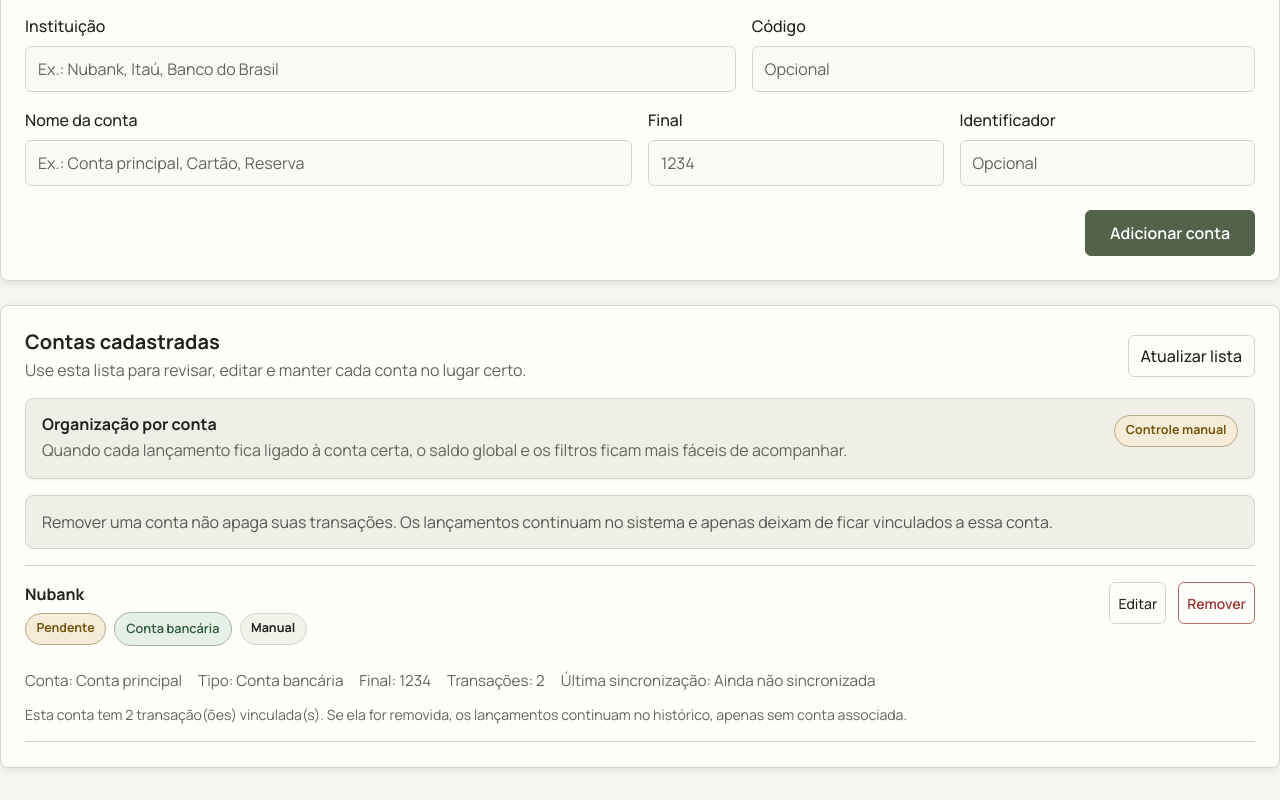
FinancialAccounts page › edits a registered financial account
The width and height of the screenshot is (1280, 800).
(page scrolled)
Expected: the text "Nubank" is shown, [25,583,84,605]
Click the button "Editar": (1138, 603) [1109,582,1166,624]
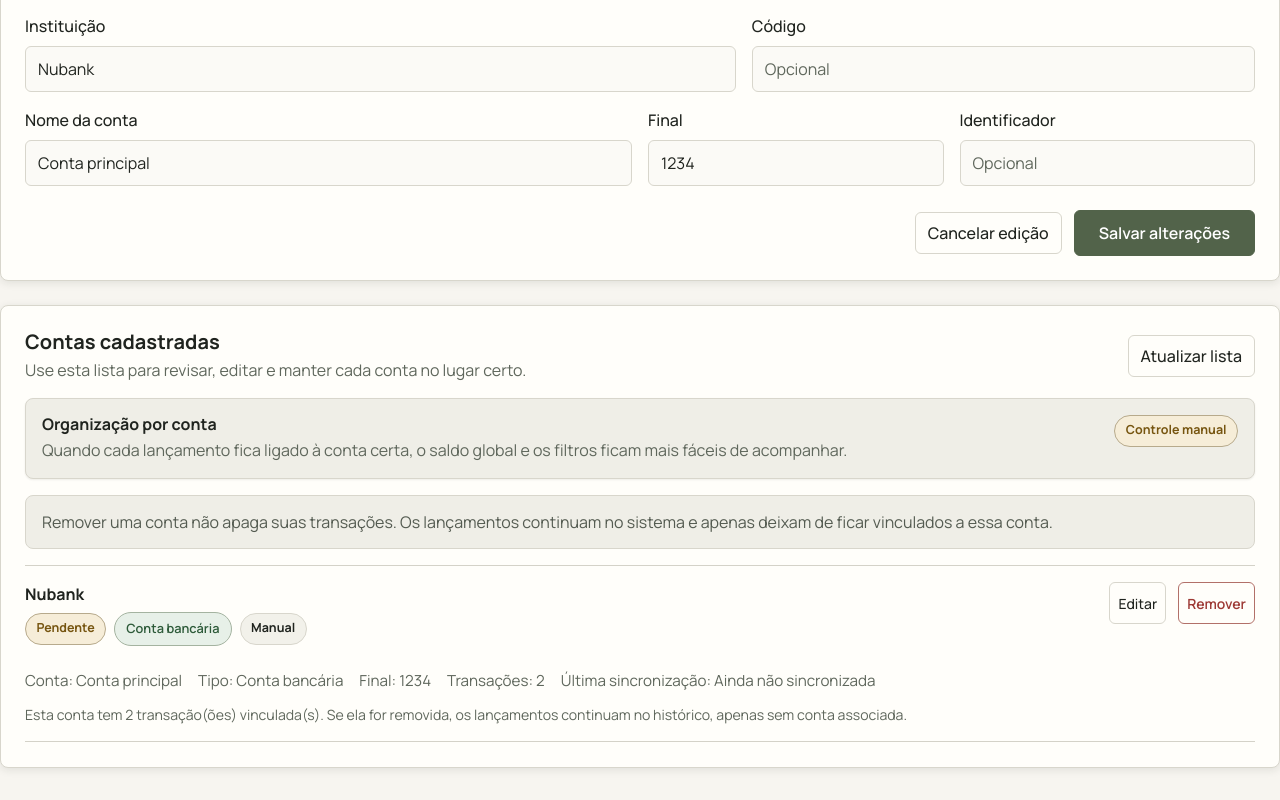
Replace the text in the field labelled "Nome da conta" with "Reserva imediata": (328, 163) [25,140,632,186]
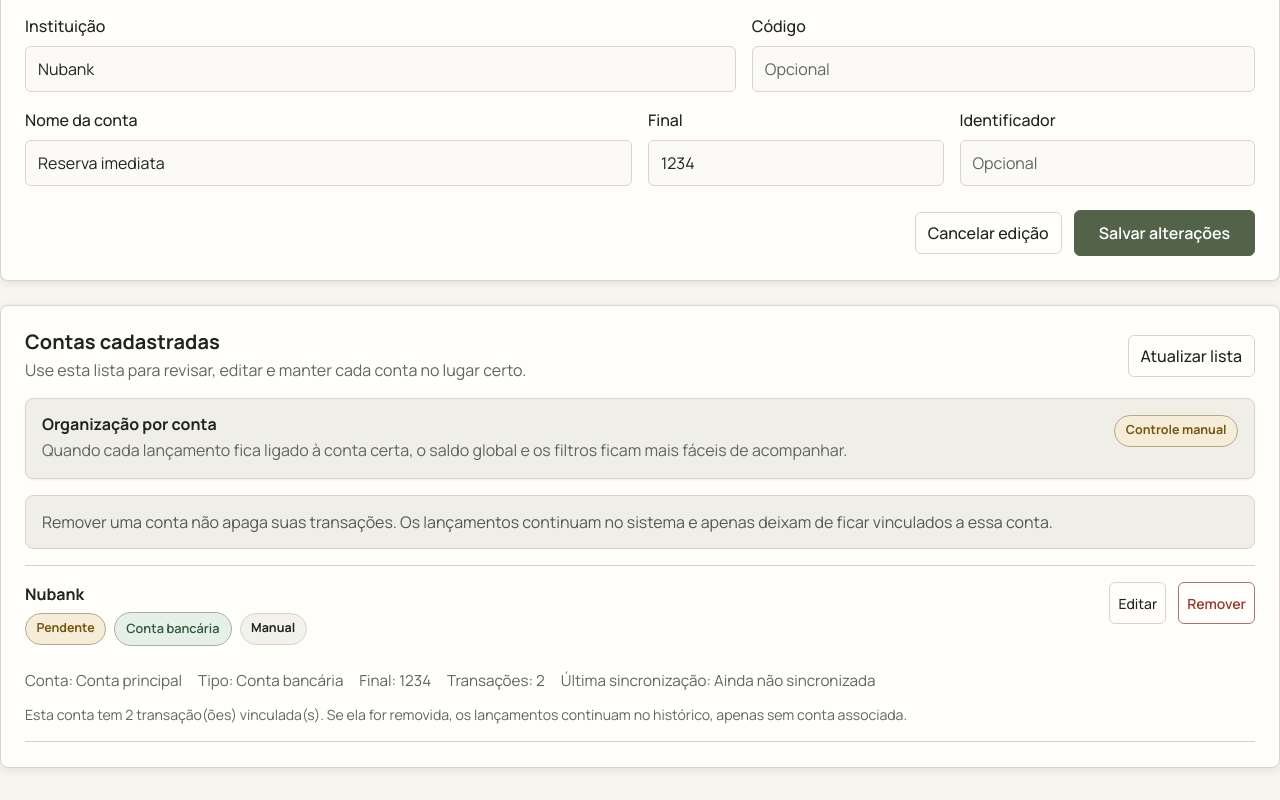
In the field labelled "Final": (796, 163) [648,140,944,186], type "7777"
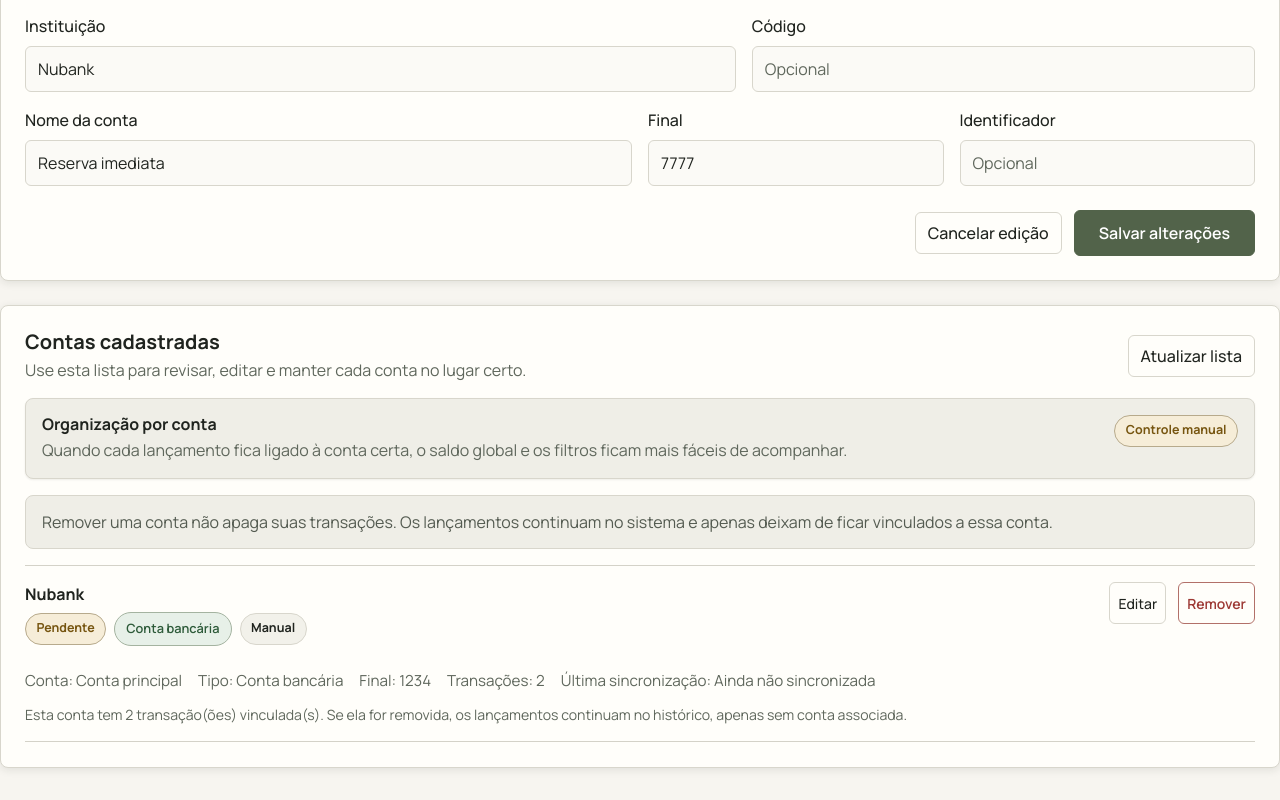
Click the button "Salvar alterações": (1164, 233) [1074,210,1255,256]
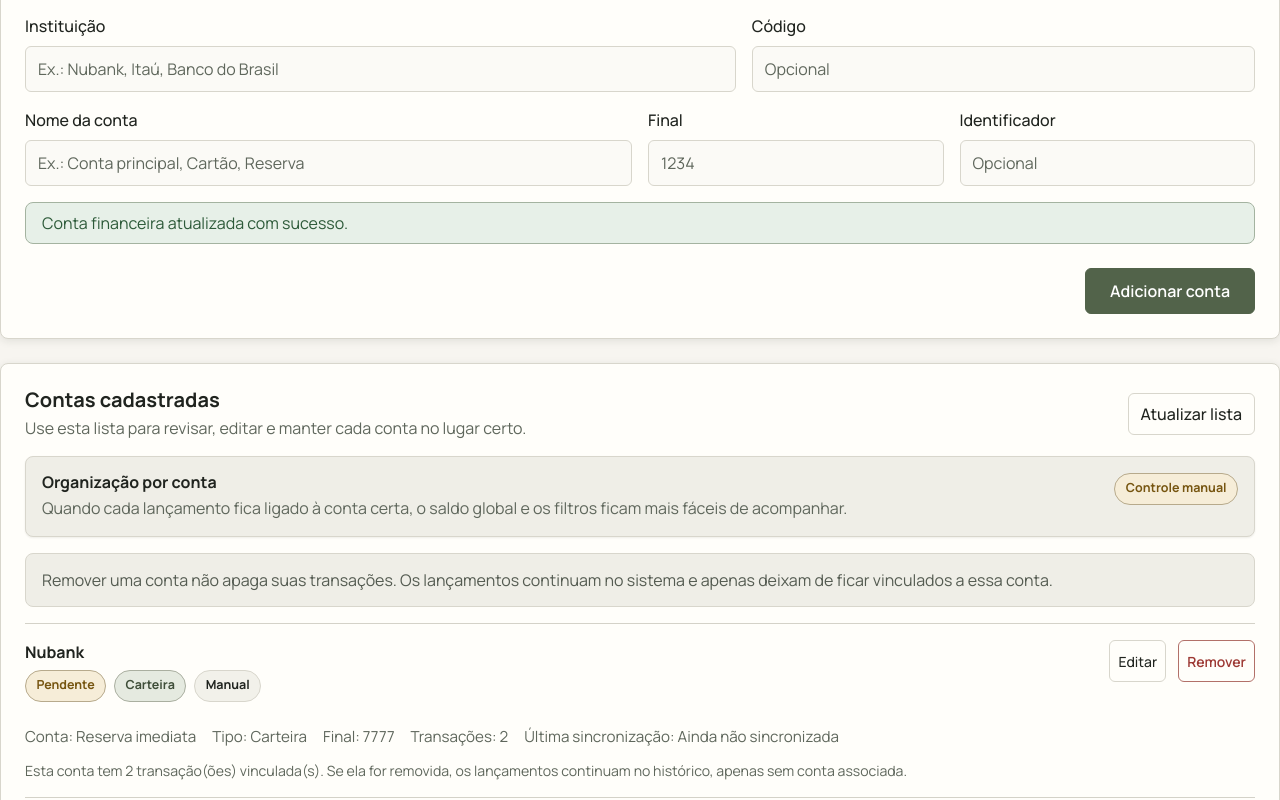
Now the text "Conta financeira atualizada com sucesso." is shown, box [25,202,1255,244]
Now the text "Conta: Reserva imediata" is shown, box [25,726,196,748]
